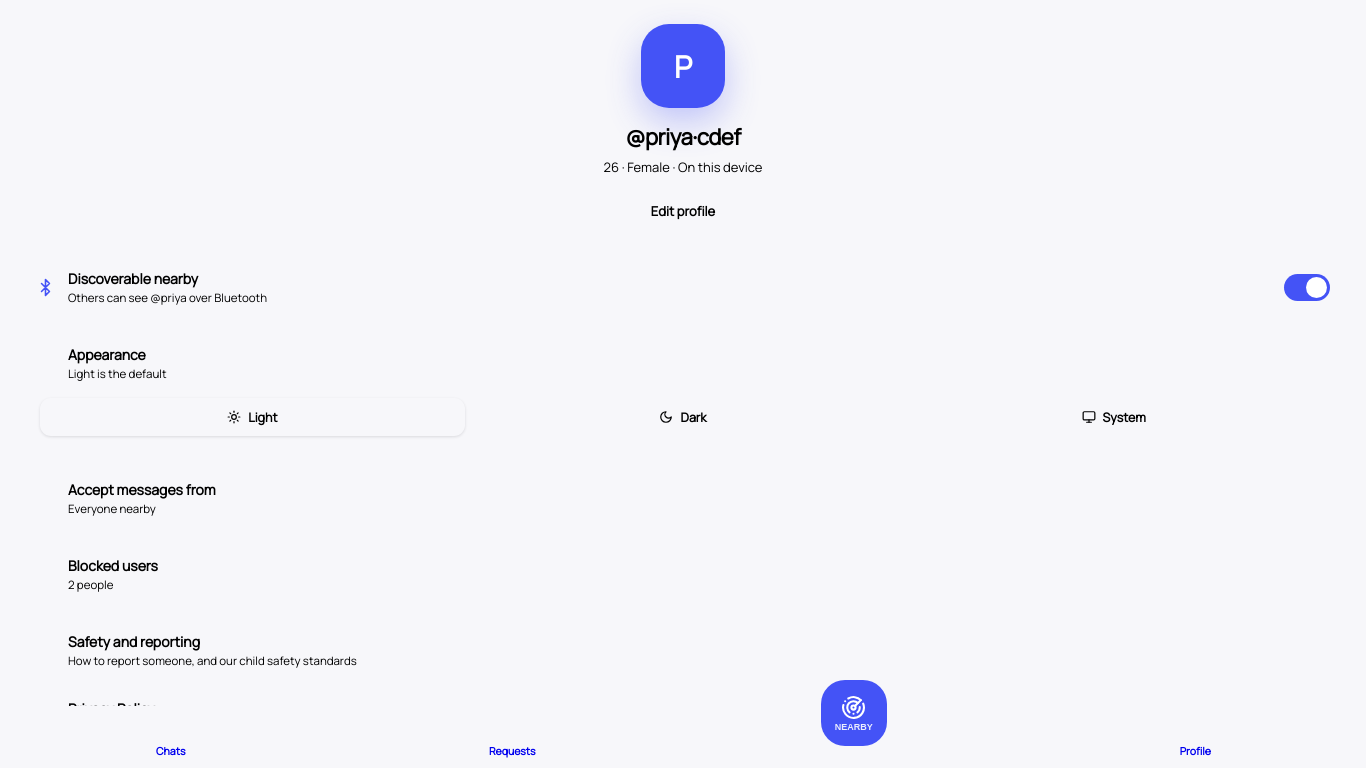
ProfileScreen — changing the username › cancelling discards the draft
The image size is (1366, 768).
Click the button "Edit profile".
click(683, 211)  # box [631,190,735,232]
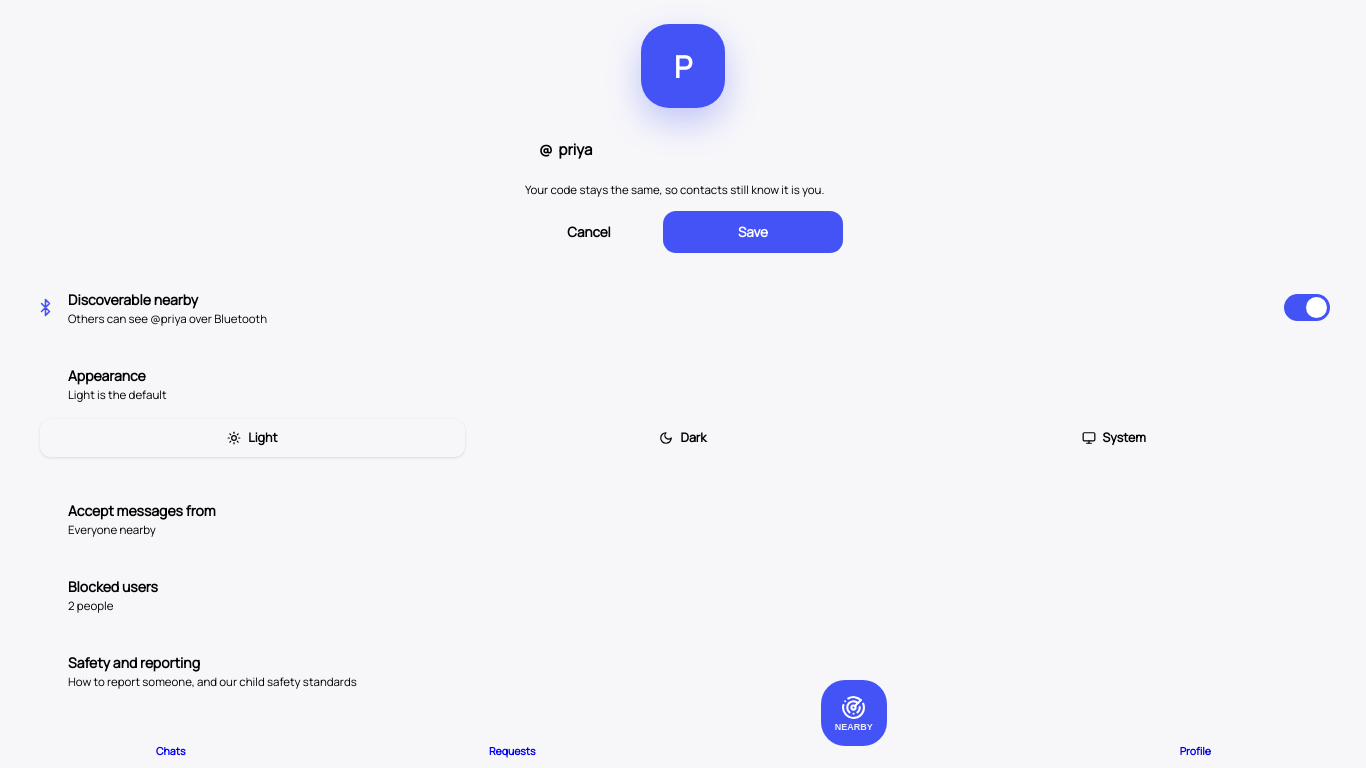
Type "zzz" into the field named "Username".
click(692, 149); type("zzz")  # box [557,138,827,160]
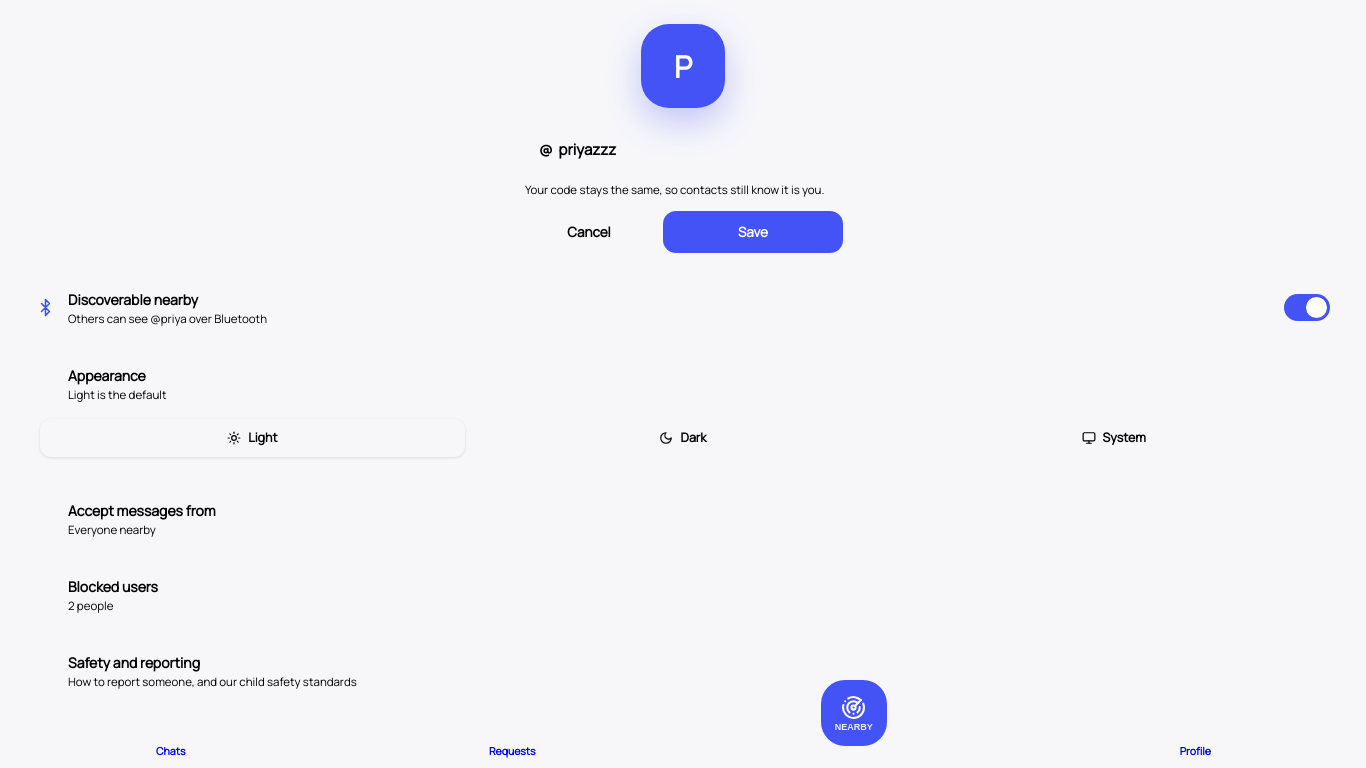
Click the button "Cancel".
click(589, 232)  # box [523,211,655,253]
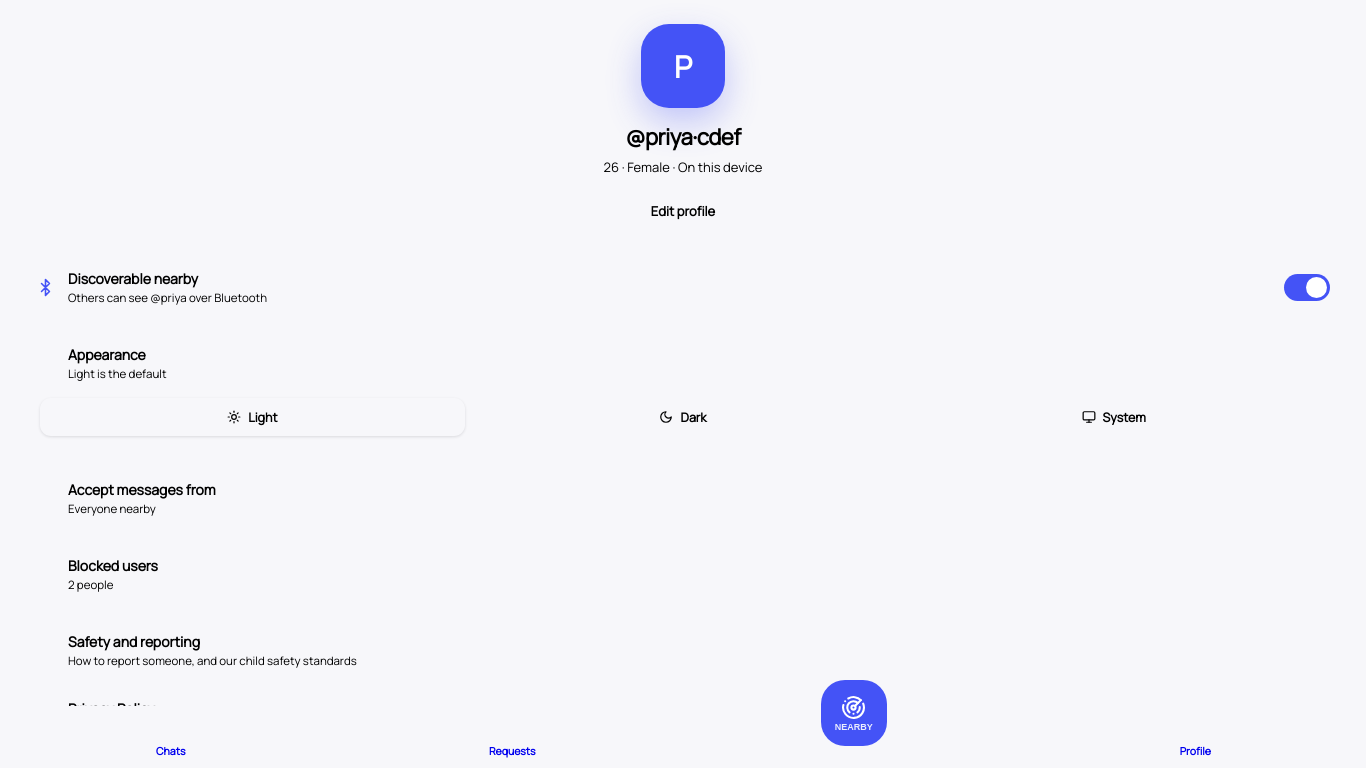
expect the heading "@priya·cdef" is shown: met, box [626,122,740,152]
